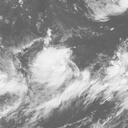cyclone: (29, 46, 77, 89)
